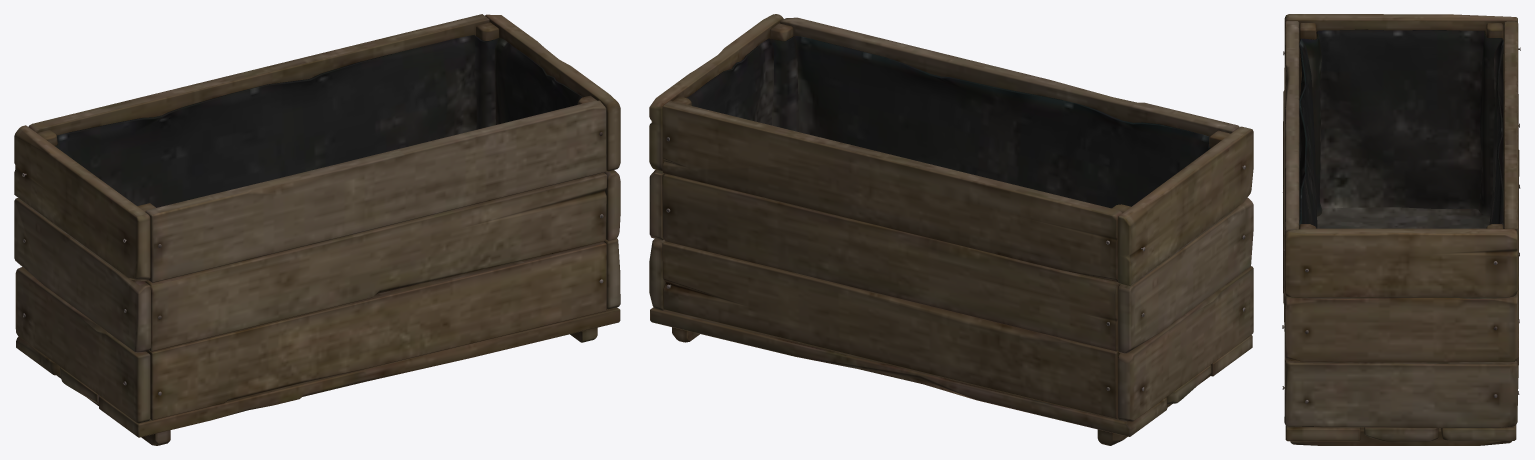
The model's file is planter_box_01.glb.
The picture shows the model from 3 angles, left to right: view 1: azimuth 30°, elevation 25°; view 2: azimuth 150°, elevation 25°; view 3: azimuth 270°, elevation 25°; orthographic projection. The views are drawn at different scales.
Visible parts, largest first — view 1: planter_box_01; view 2: planter_box_01; view 3: planter_box_01.
Boxes of the visible parts, bbox=[...] form: planter_box_01: bbox=[14, 14, 620, 445]; planter_box_01: bbox=[649, 14, 1253, 445]; planter_box_01: bbox=[1282, 14, 1520, 445].
Size of the model in its own units: 0.9126 by 0.425 by 0.4137.
Materials: 1 (1 with a texture image).
